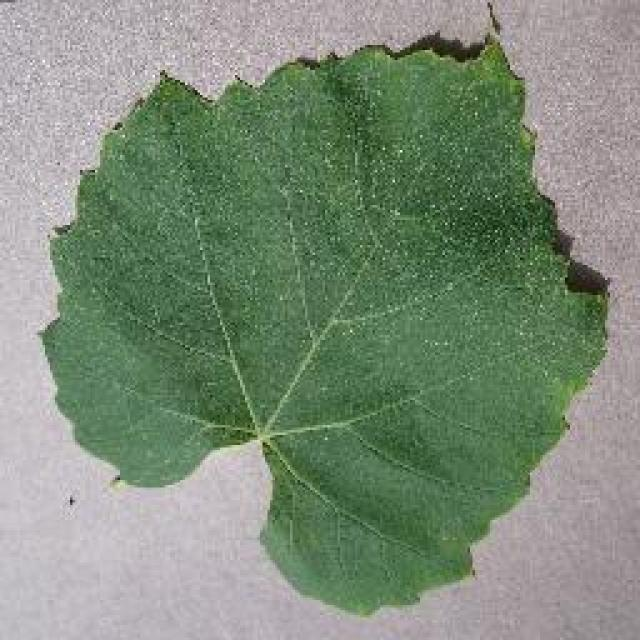Grape___healthy: (42, 45, 605, 610)
